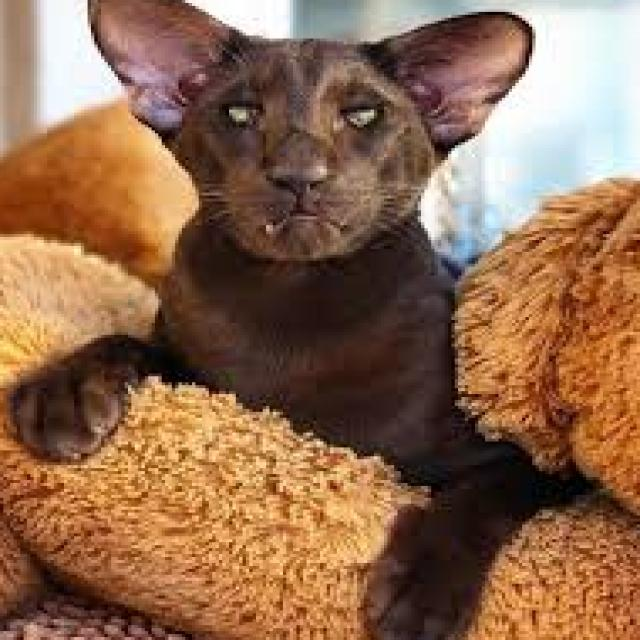Oriental: (3, 0, 600, 640)
